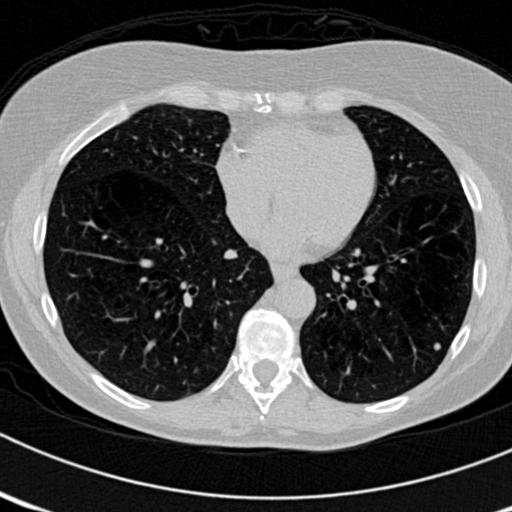nodule: (431, 340, 444, 353)
